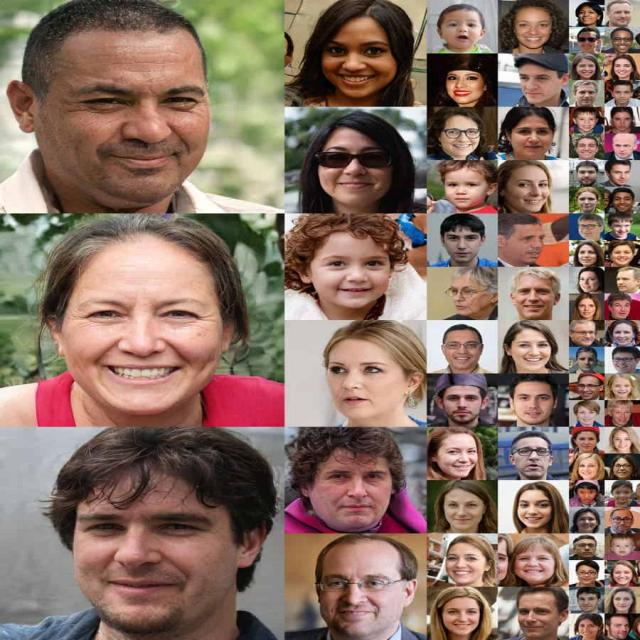Glasses: (314, 574, 406, 594), (317, 149, 397, 170), (442, 126, 484, 140), (445, 287, 491, 298), (512, 446, 553, 458), (442, 340, 483, 350)
